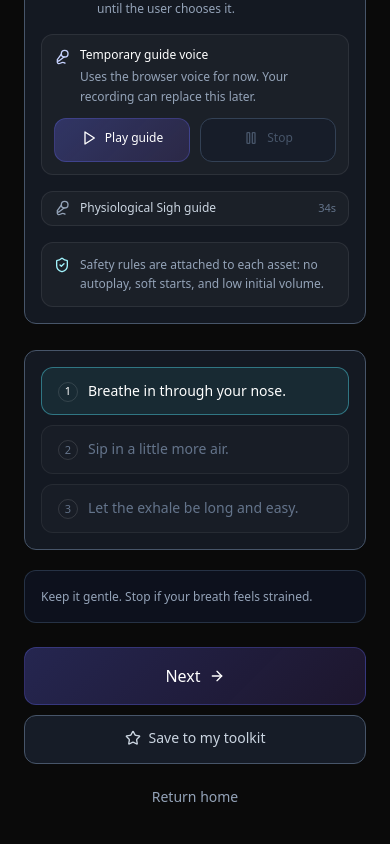
Test: RegulationPracticeClient › moves a simple practice through its steps before completion
(page scrolled)
Expected: the text "Breathe in through your nose." is shown, [88,380,286,402]
Expected: the text "Practice complete" is not shown
Click the button "Next" at (195, 676), box [24,647,366,705]
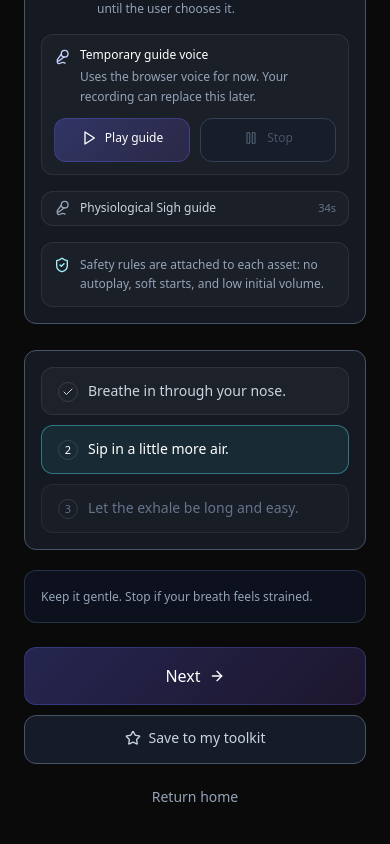
Click the button "Next" at (195, 676), box [24,647,366,705]
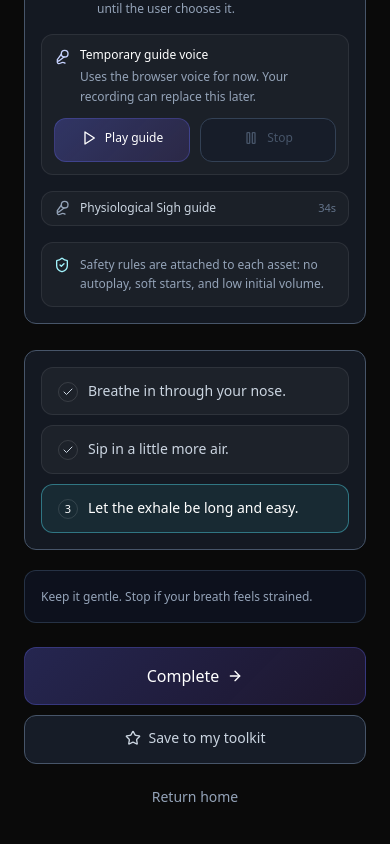
Click the button "Complete" at (195, 676), box [24,647,366,705]
(page scrolled)
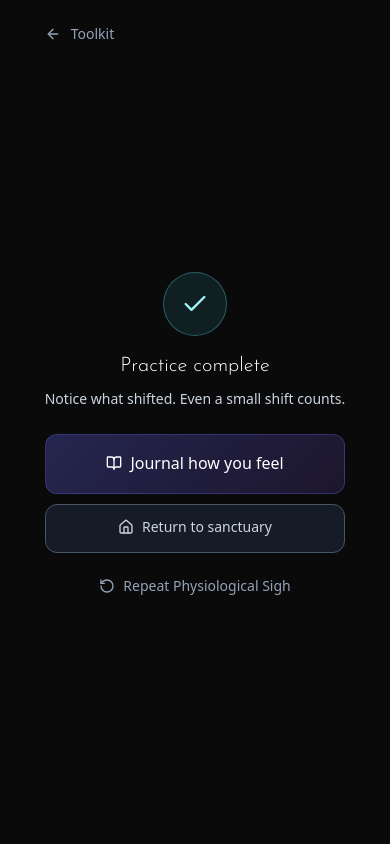
Expected: the heading "Practice complete" is shown, [120,356,270,376]
Expected: the button "Journal how you feel" is shown, [45,434,345,494]
Expected: the button "Return to sanctuary" is shown, [45,504,345,553]
